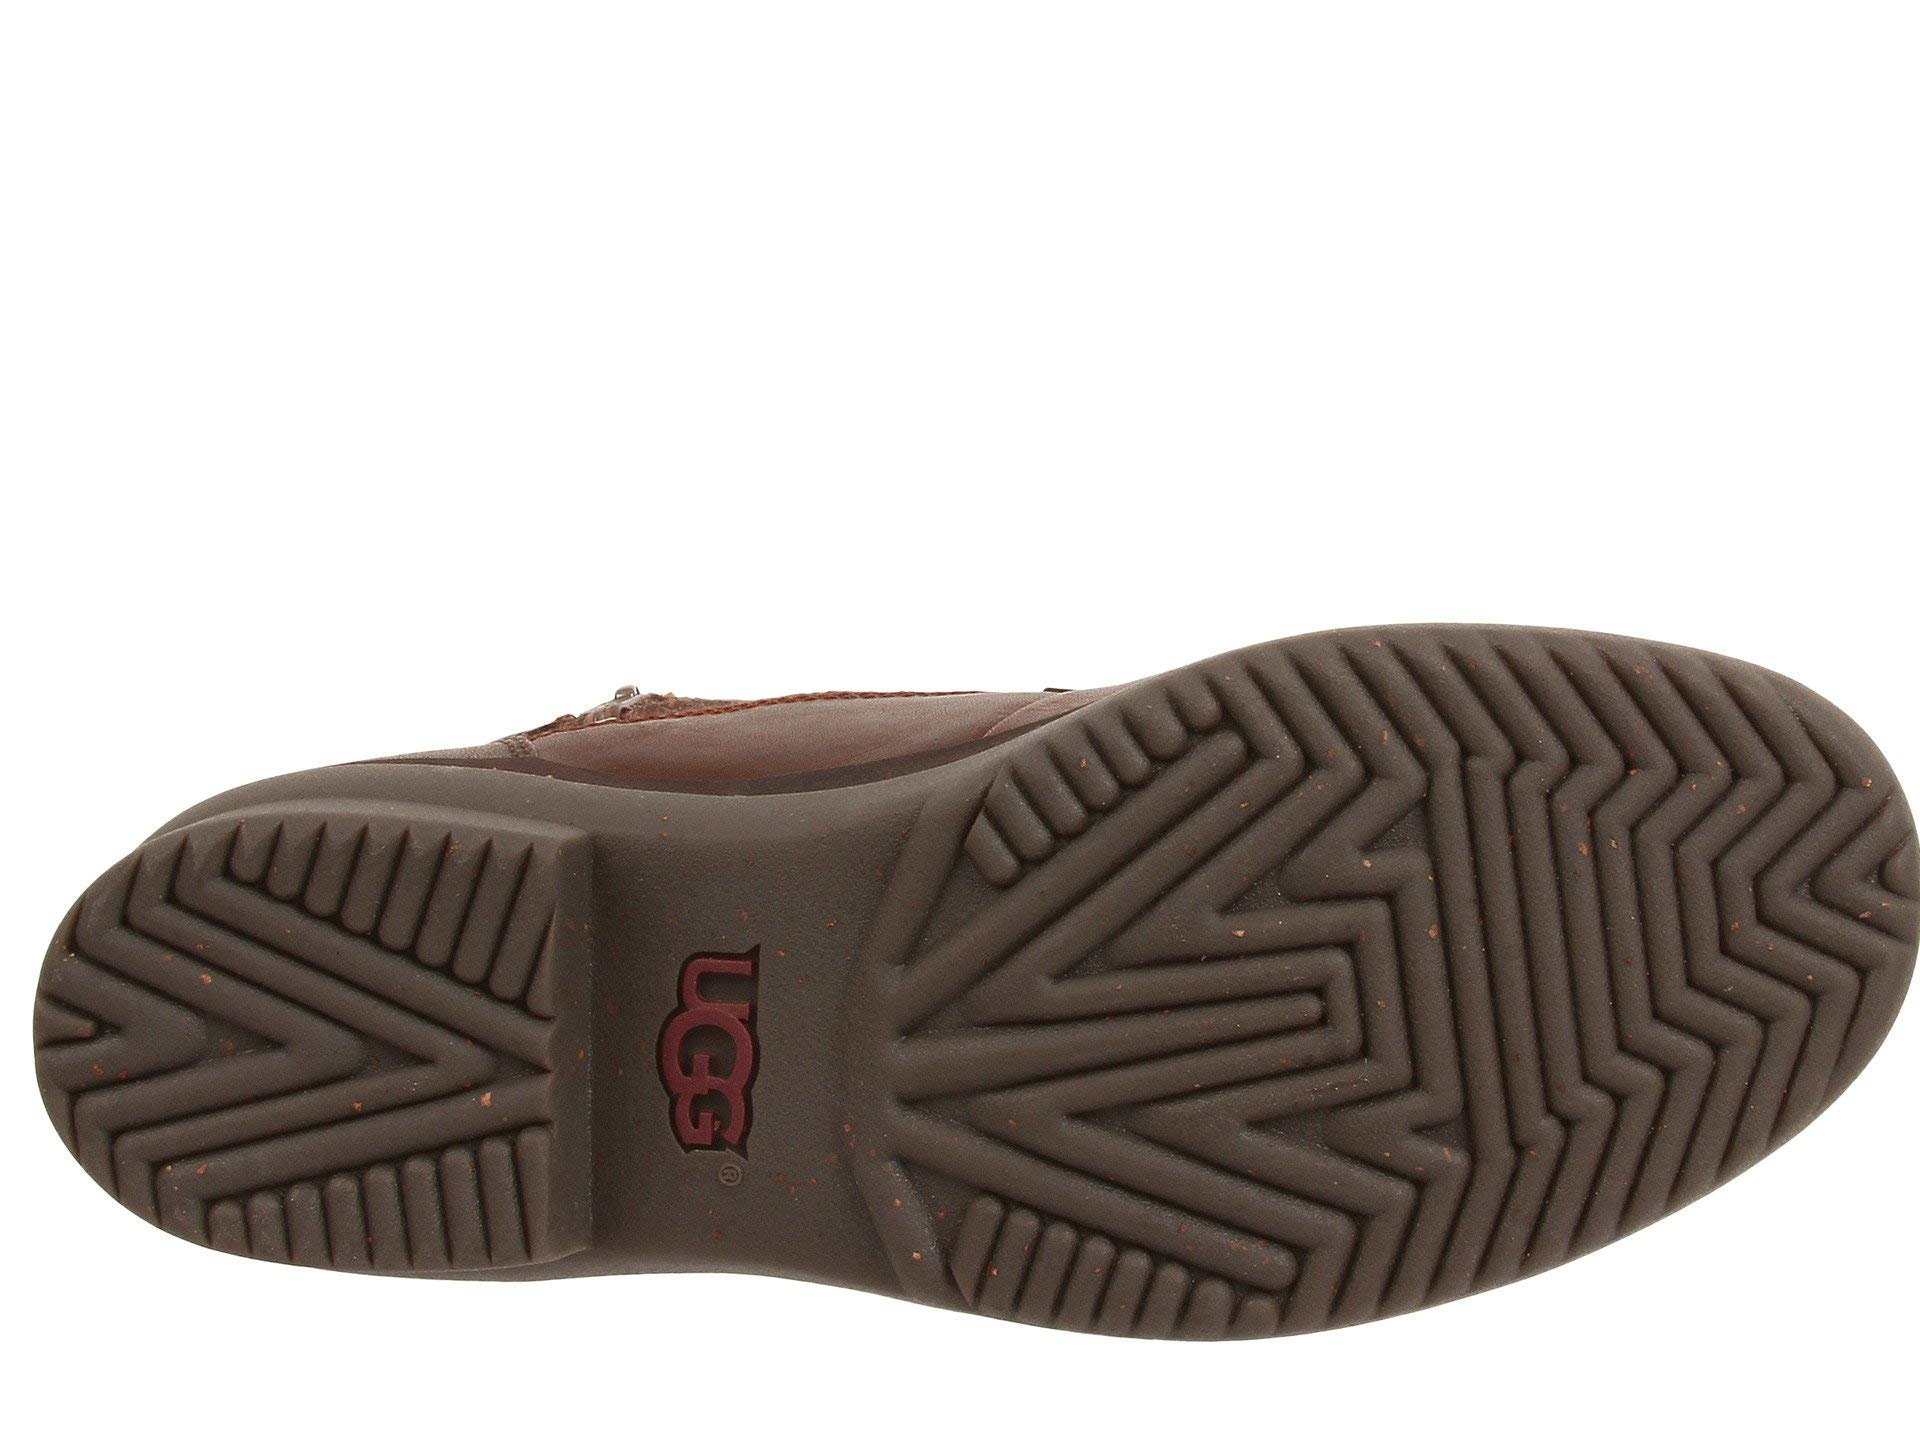chevron: (85, 889, 544, 1212), (999, 843, 1305, 1019), (958, 1065, 1341, 1190)
line: (85, 889, 544, 1212), (1459, 796, 1661, 1026)
